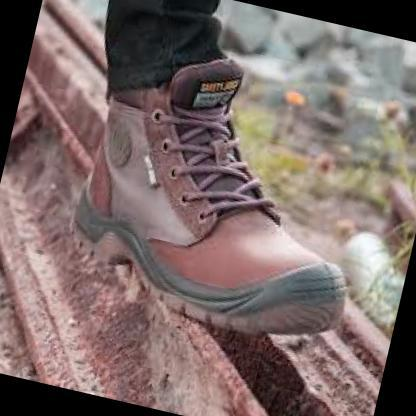safety-shoe: (46, 33, 412, 372)
